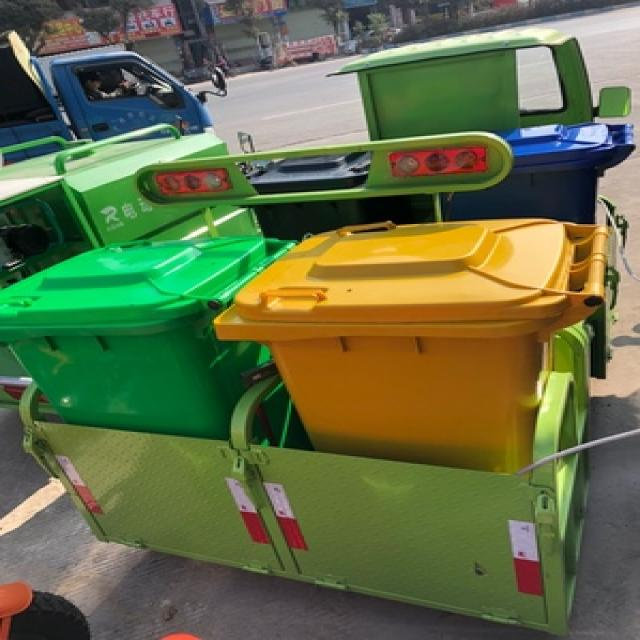ash bin: (210, 214, 604, 470), (2, 232, 289, 440)
truck: (2, 32, 231, 138)
